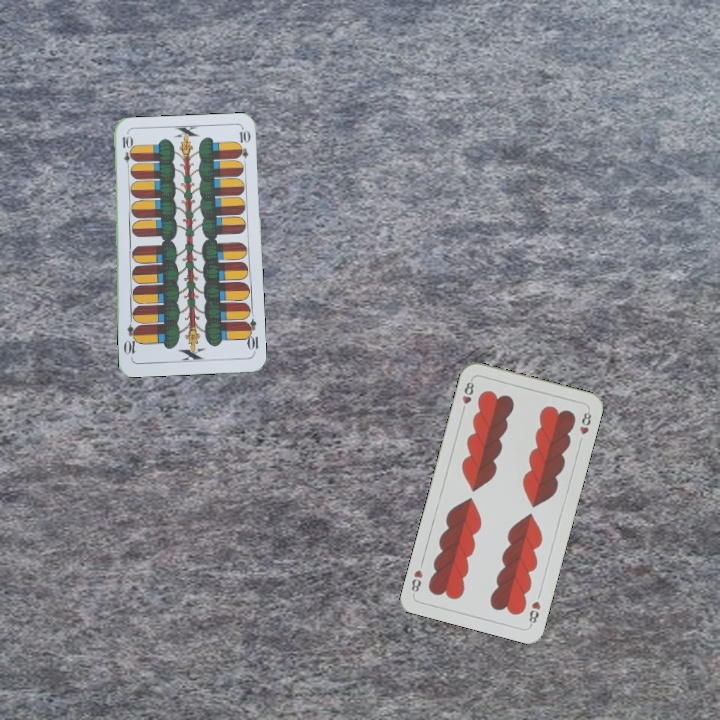E10: (241, 315, 261, 356), (118, 132, 133, 172)
H8: (458, 375, 477, 415), (525, 597, 543, 629)
